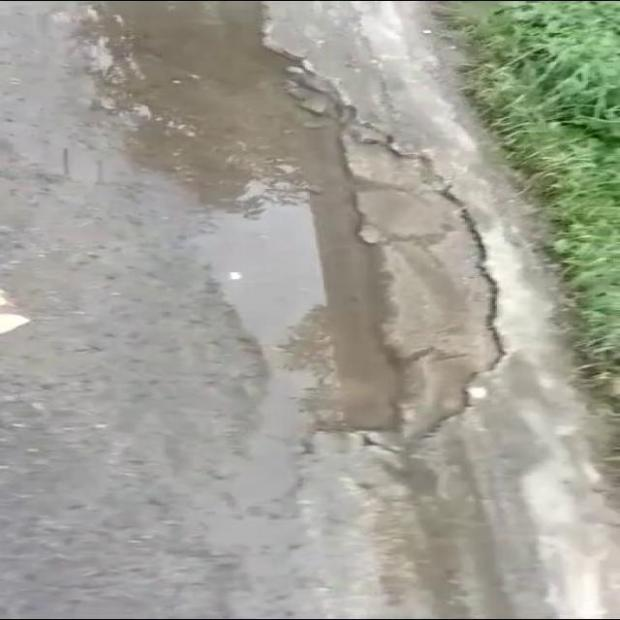lubang: (0, 3, 498, 444)
